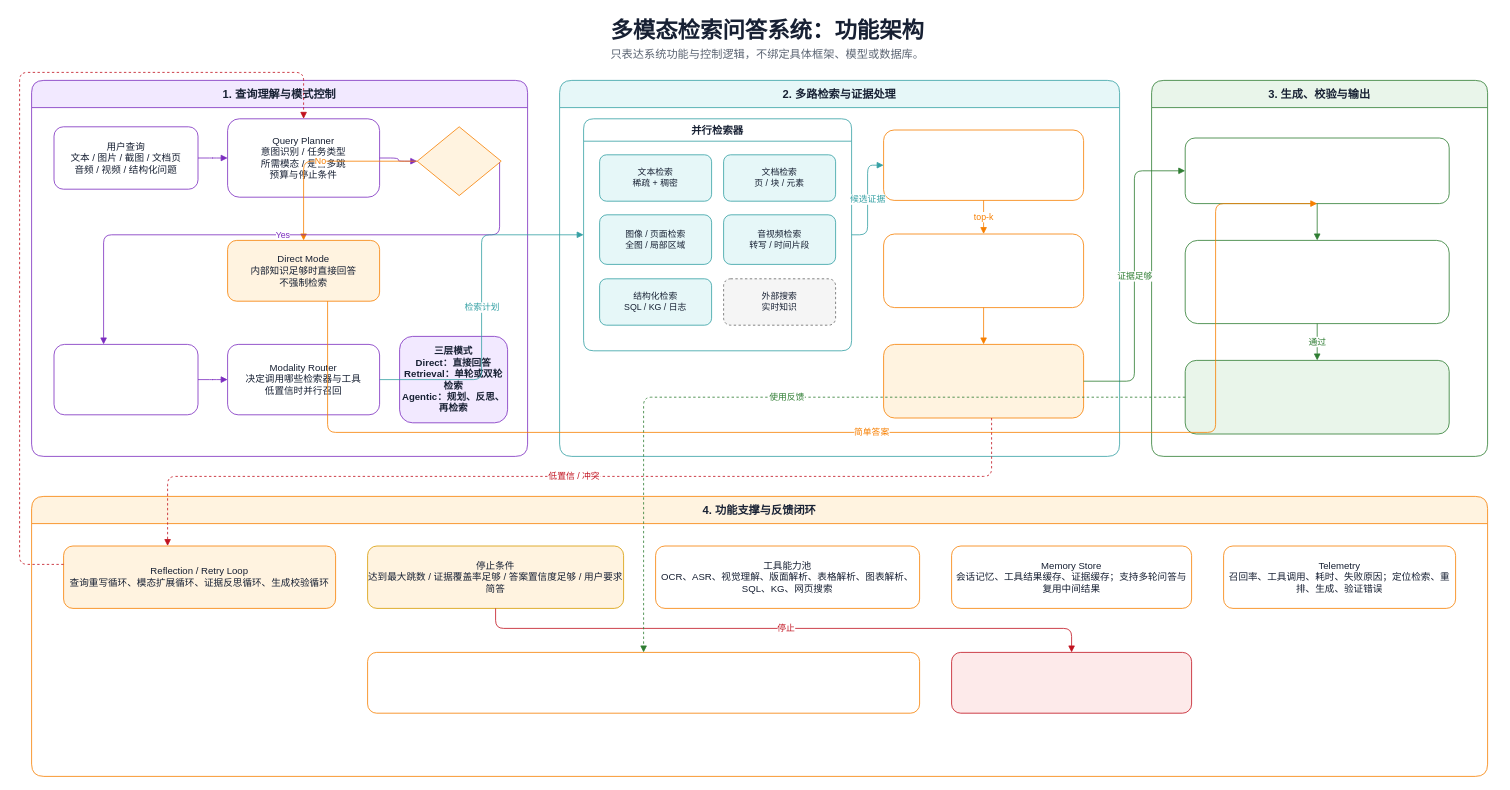
This 1510x790 diagram has some shape labels left out. Each missing label, with the centre of its shape:
Answer / Citation Verifier 逐句支持性检查 关键结论绑定证据 ID 图表、表格、数值独立校验: pixel 1316 282
Answer Generator 基于证据推理 生成结论、依据与不确定项: pixel 1316 170
Clarify / Abstain 证据不足时要求澄清，或显式拒答并暴露缺失证据。: pixel 1071 682
Grounded Answer + Citations 结论 / 依据 / 来源 页码、片段、时间戳、区域坐标 不确定项与下一步建议: pixel 1316 397
候选融合与重排 去重 / 来源分组 / 时间排序 相关性、支撑性、多样性排序: pixel 983 164
查询重写 语义扩展 / 关键词版 模态定向版 / 时序版 结构化版子查询: pixel 125 379
用户反馈闭环 点击、追问、纠错、弃用、人工核验，用于发现知识缺口、过期文档、错误切分和权限问题。: pixel 643 682
证据打包 最小充分证据集 来源 / 模态 / 置信度 引用定位: pixel 983 270
证据覆盖检查 覆盖率不足：扩展查询 证据冲突：触发反思 证据足够：进入生成: pixel 983 381
需要 检索？: pixel 458 161
